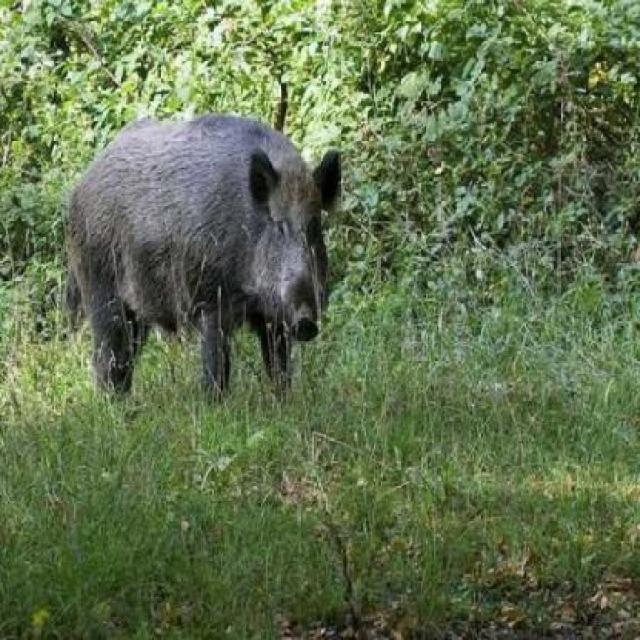Boar: (38, 74, 397, 454)
